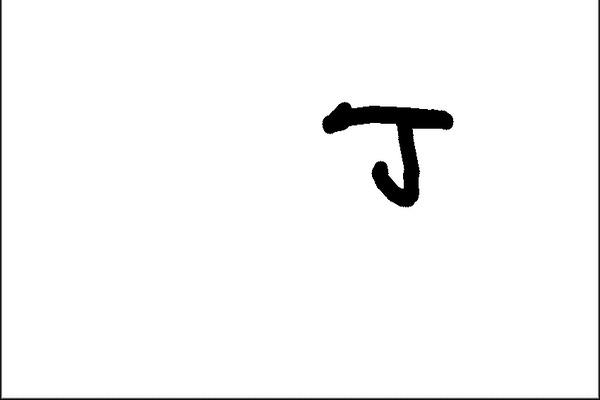J: (317, 94, 464, 218)
